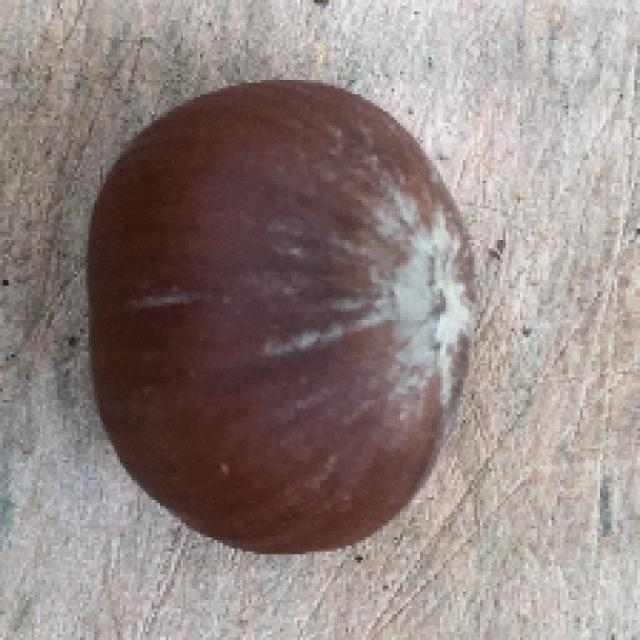qualityHazelnut: (81, 71, 482, 559)
